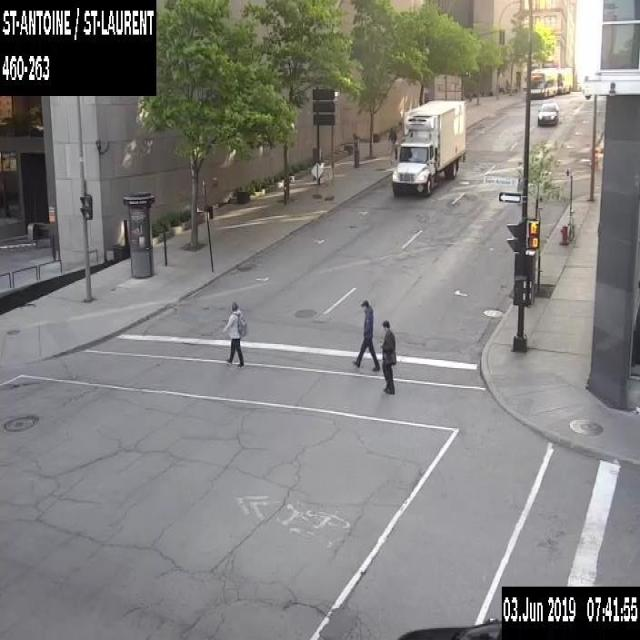bus: (530, 66, 556, 98), (557, 66, 572, 93)
construction: (310, 160, 323, 198), (323, 167, 334, 200)
pedestrian: (352, 298, 379, 371), (219, 299, 246, 365), (378, 319, 397, 395), (389, 120, 397, 155)
vehicle: (391, 98, 465, 194), (397, 616, 502, 639), (536, 100, 558, 125)
